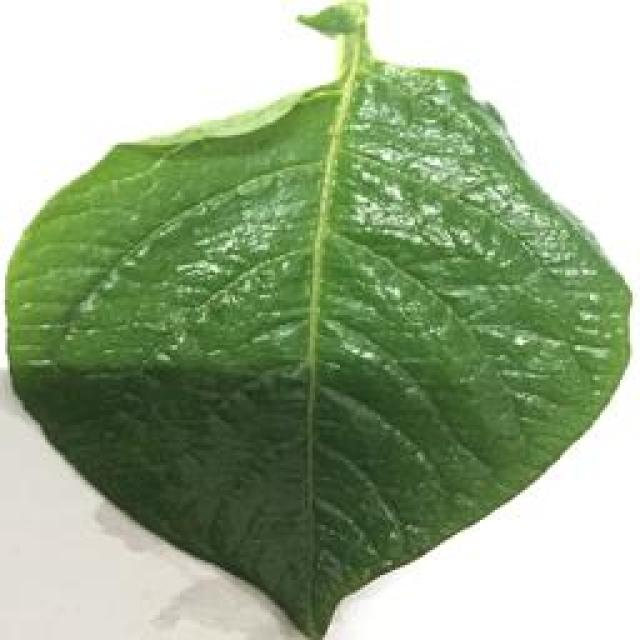Potato_Healthy: (3, 6, 629, 628)
